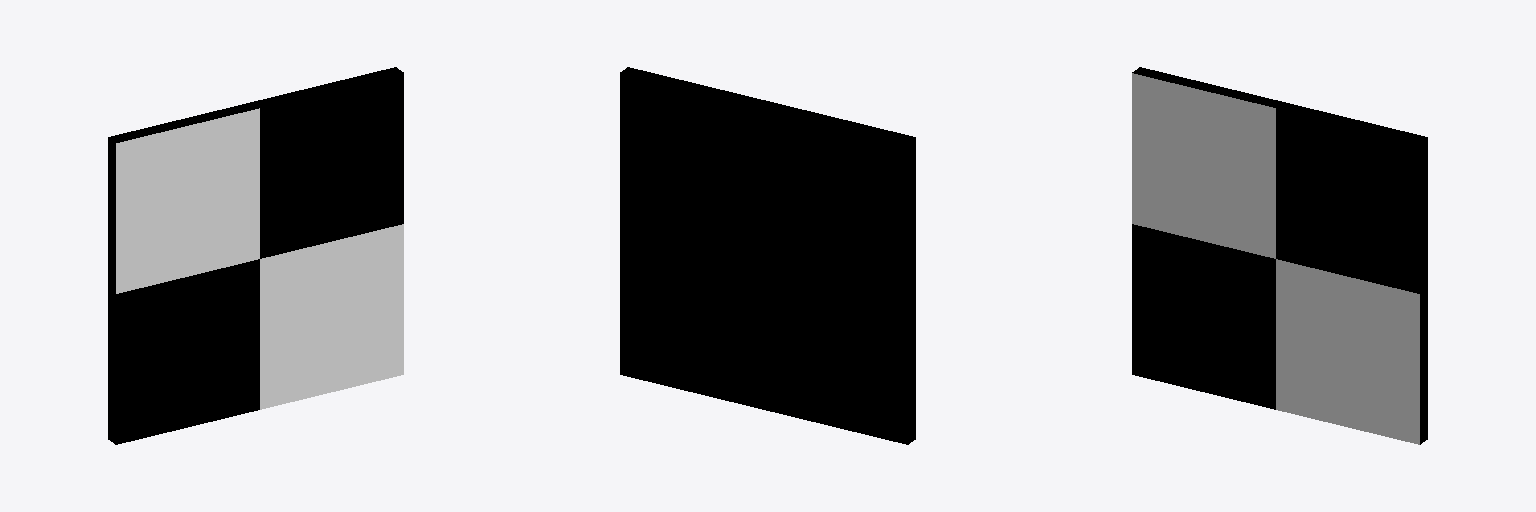
File: control_checker.obj
3 renders of one model, left to right at view 1: azimuth 30°, elevation 25°; view 2: azimuth 150°, elevation 25°; view 3: azimuth 330°, elevation 25°, orthographic.
Parts seen in each view (by area): view 1: control_checker; view 2: control_checker; view 3: control_checker.
Boxes of the visible parts, box(x1,y1,x2,y2) form: control_checker: box(108, 67, 403, 444); control_checker: box(620, 67, 915, 444); control_checker: box(1132, 67, 1427, 444).
Size of the model in its own units: 1 by 1 by 0.05.